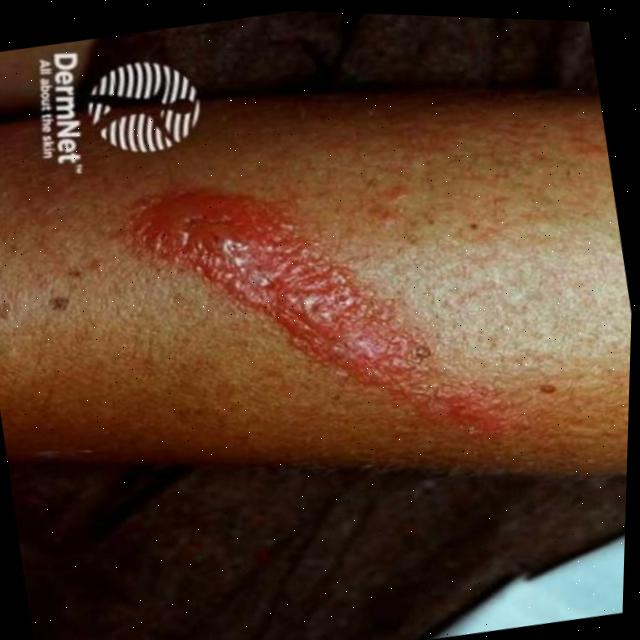Eczema: (113, 130, 524, 508)
